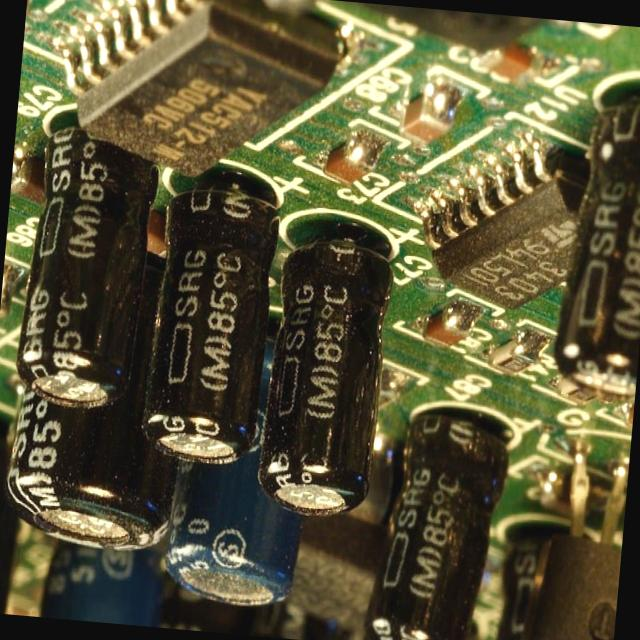Electrolytic capacitor: (8, 270, 186, 542), (260, 216, 400, 520), (144, 170, 278, 470), (22, 130, 148, 412), (175, 341, 307, 606), (548, 77, 640, 406), (371, 412, 497, 640)
IC: (48, 0, 331, 188)
